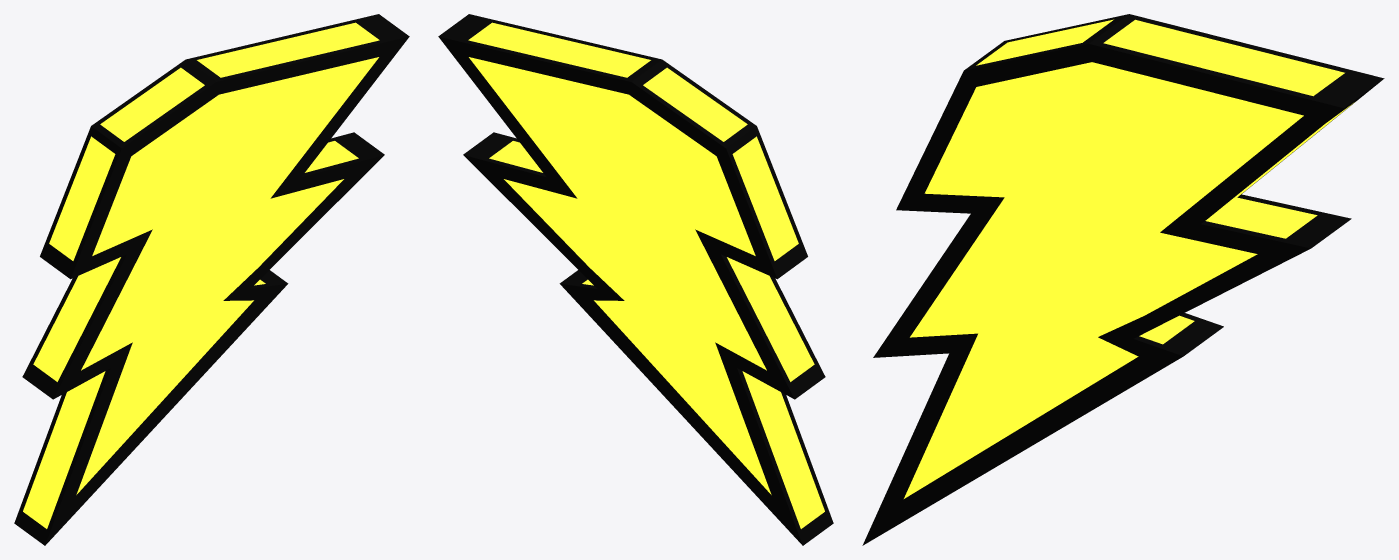
Rendered from power_up_lighting.fbx.
3 views of the same model, side by side, from view 1: azimuth 30°, elevation 25°; view 2: azimuth 150°, elevation 25°; view 3: azimuth 330°, elevation 25° (orthographic). The views are drawn at different scales.
Parts seen in each view (by area): view 1: Cube; view 2: Cube; view 3: Cube.
Part boxes in pixels (left/top/right/bottom): Cube: left=14, top=14, right=409, bottom=545; Cube: left=438, top=14, right=833, bottom=545; Cube: left=862, top=14, right=1384, bottom=545.
Bounding box in the file's own units: 60.71 × 67.15 × 8.88.
